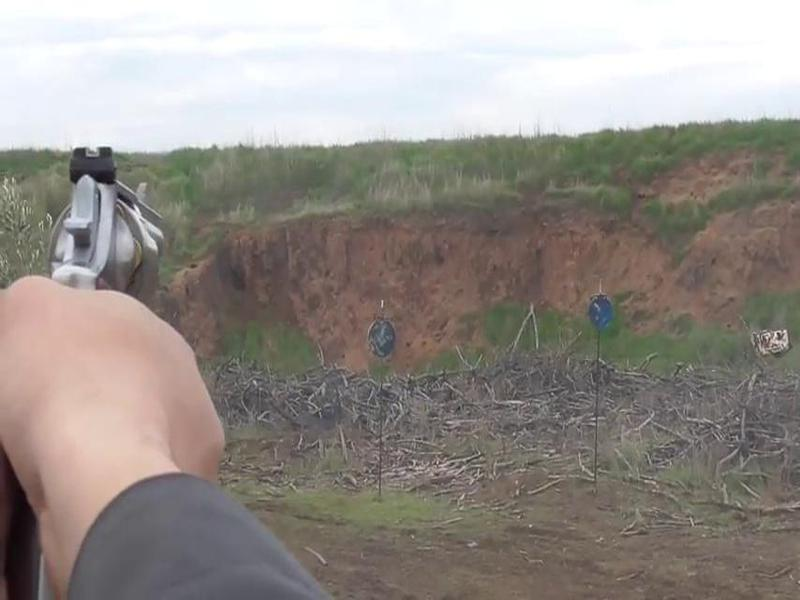Revolver: (43, 128, 179, 338)
